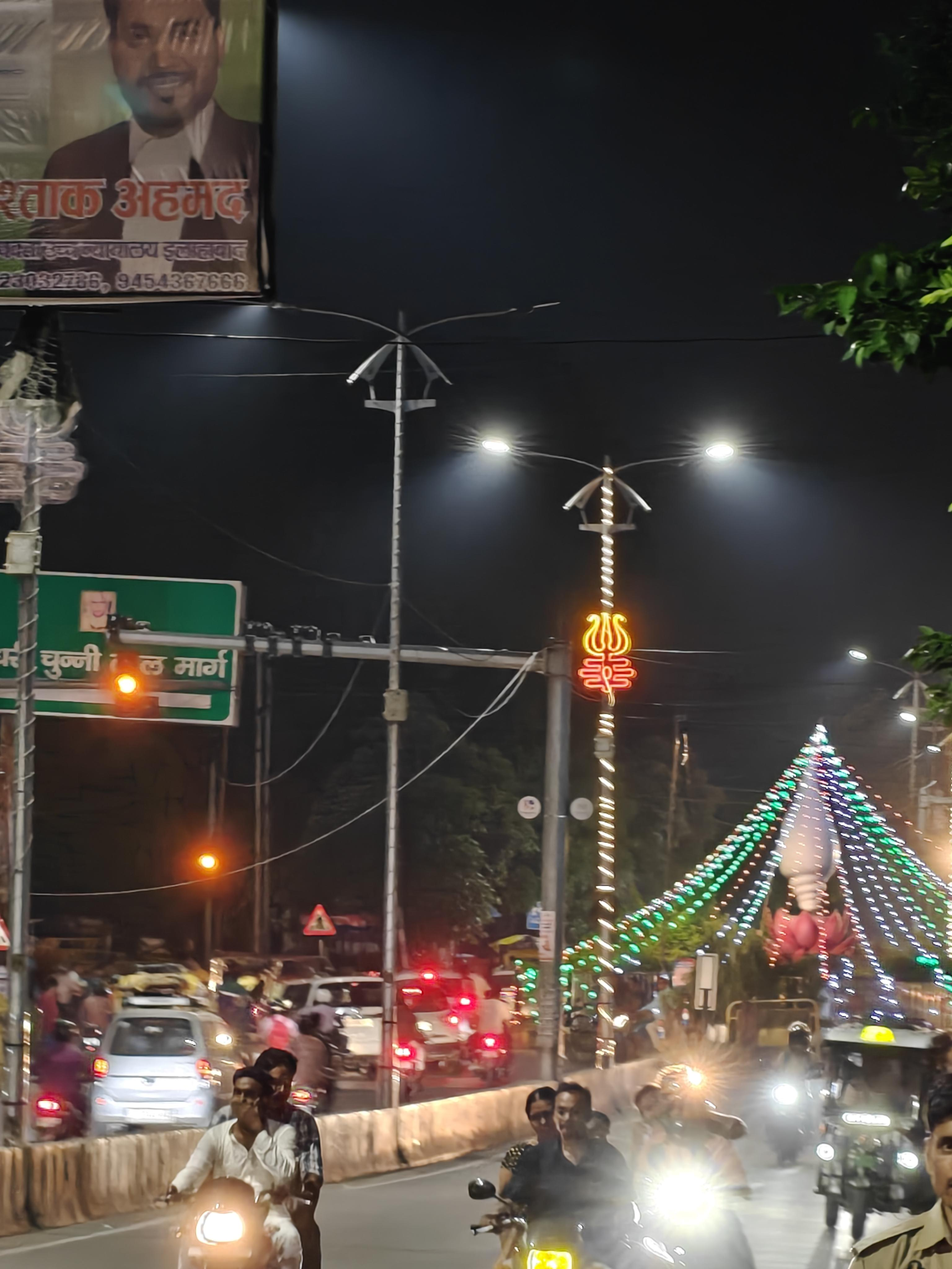streetlight: (437, 297, 565, 324)
